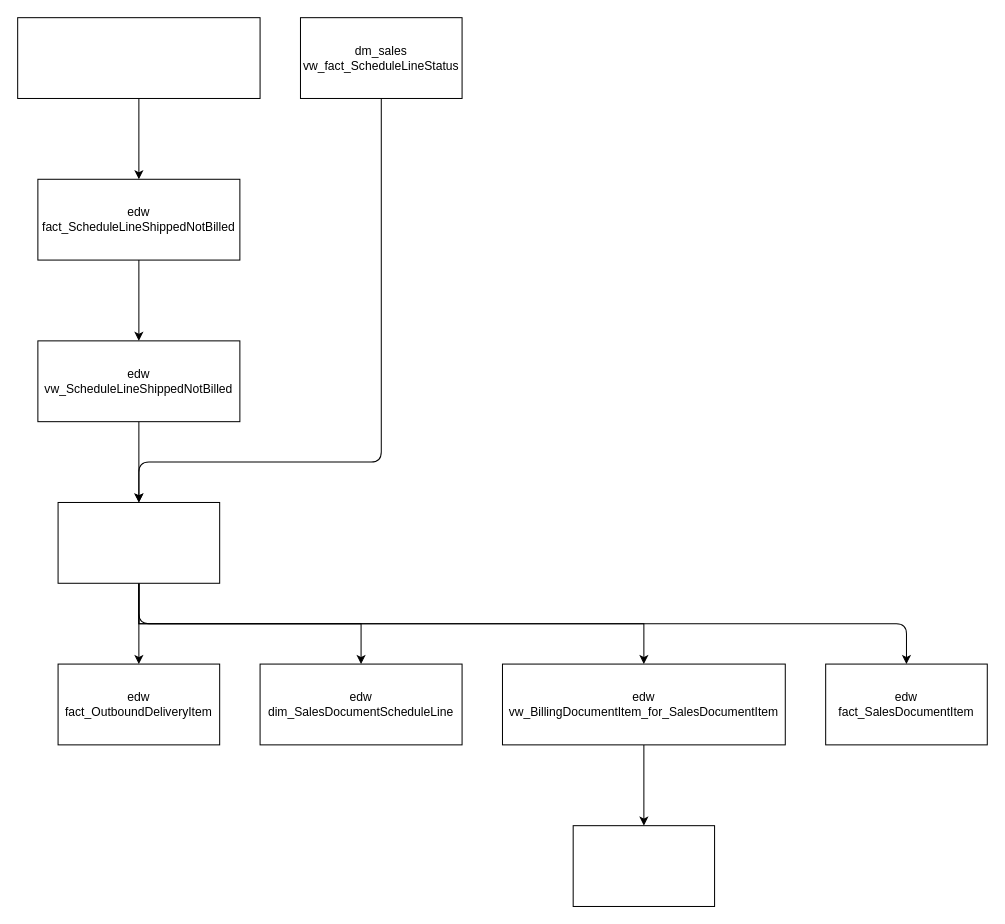
Image size: 1005x924. Some labels were removed from this diagram. The shapes that lost their labels are listed below. From the top down, each one's centre as x and y in pixels, then its label:
[138,57]: dm_sales vw_fact_ScheduleLineShippedNotBilled
[138,542]: edw vw_fact_ScheduleLineStatus
[643,865]: edw fact_BillingDocumentItem
